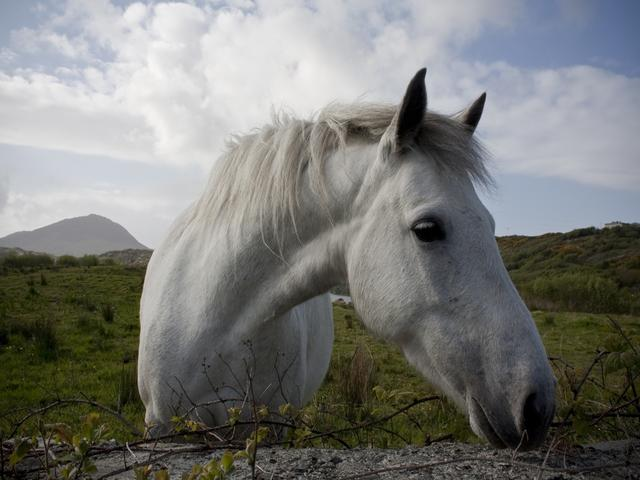horse: (76, 71, 584, 442)
